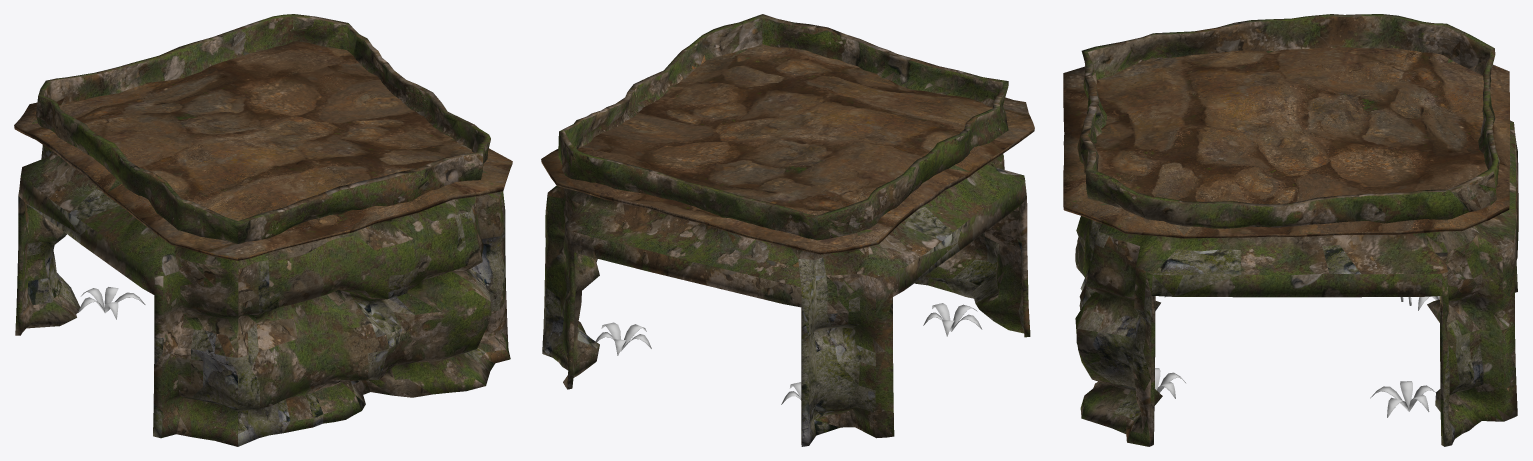
Rendered from cavern_3_organic.obj.
The picture shows the model from 3 angles, left to right: view 1: azimuth 30°, elevation 25°; view 2: azimuth 150°, elevation 25°; view 3: azimuth 270°, elevation 25°; orthographic projection. The views are drawn at different scales.
Parts seen in each view (by area): view 1: cavern_3_Rock_skin, cavern_3_Soft_details; view 2: cavern_3_Rock_skin, cavern_3_Soft_details; view 3: cavern_3_Rock_skin, cavern_3_Soft_details.
Boxes of the visible parts, x1,y1,x2,y2 form: cavern_3_Rock_skin: (14,14,512,446); cavern_3_Soft_details: (78,287,145,319); cavern_3_Rock_skin: (541,14,1034,446); cavern_3_Soft_details: (595,251,982,404); cavern_3_Rock_skin: (1063,14,1518,446); cavern_3_Soft_details: (1155,296,1439,417).
Size of the model in its own units: 599 by 383 by 617.
